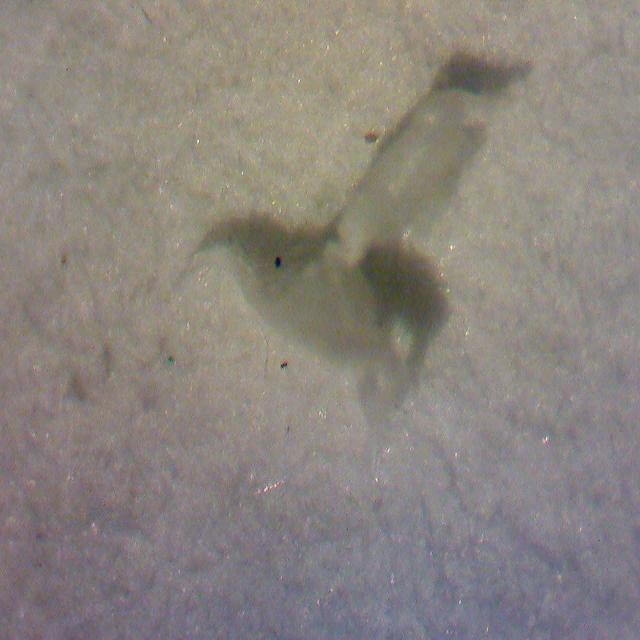microplastic: (166, 31, 492, 408)
